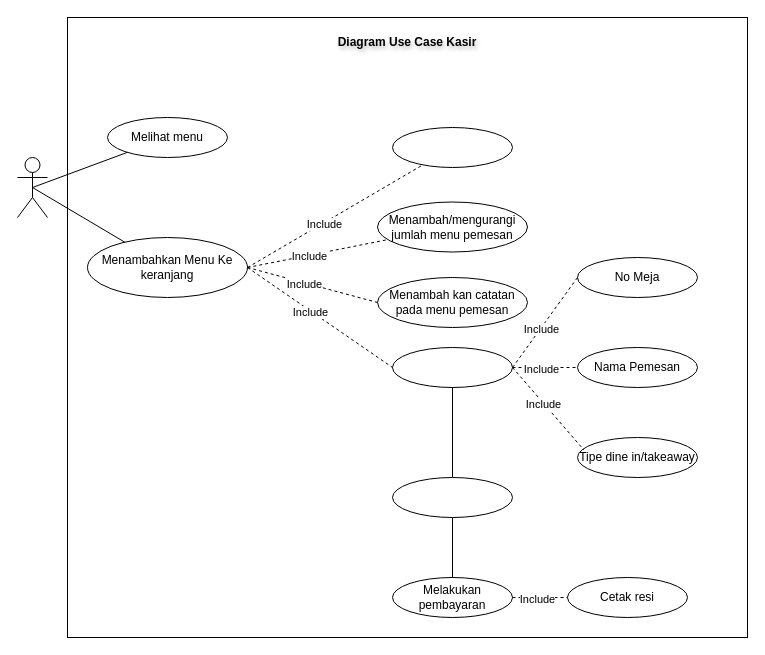
Some shapes in this 765 by 655 pixel diagram are drawn without their labels. The shapes that lost their labels are listed below. From the top down, each one's centre as x and y in pixels, then its label:
the point at 452,147: Menghapus menu pemesan
the point at 32,187: Kasir
the point at 452,367: Mengisi data pemesan
the point at 452,497: Melakukan pemesanan
